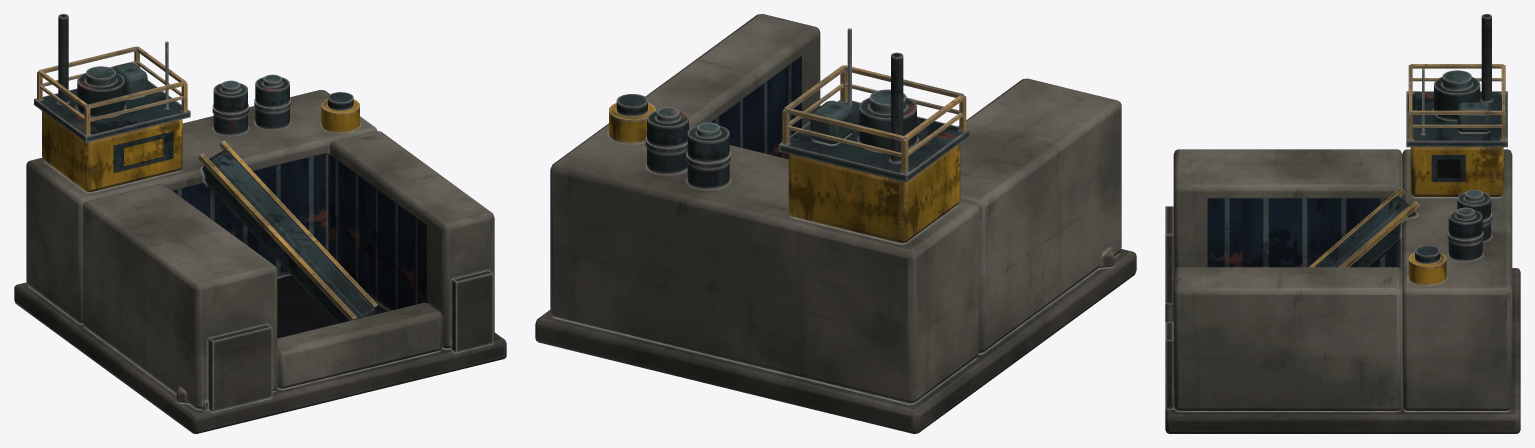
Rendered from mine.glb.
3 views of the same model, side by side, from view 1: azimuth 30°, elevation 25°; view 2: azimuth 150°, elevation 25°; view 3: azimuth 270°, elevation 25° (orthographic). The views are drawn at different scales.
Parts seen in each view (by area): view 1: te_mine; view 2: te_mine; view 3: te_mine.
Part boxes in pixels (x1,y1,x2,y2): te_mine: (14,14,506,433); te_mine: (535,14,1136,433); te_mine: (1165,14,1520,433).
Bounding box in the file's own units: 0.84 × 0.745 × 0.84.
1 material, 1 textured.
